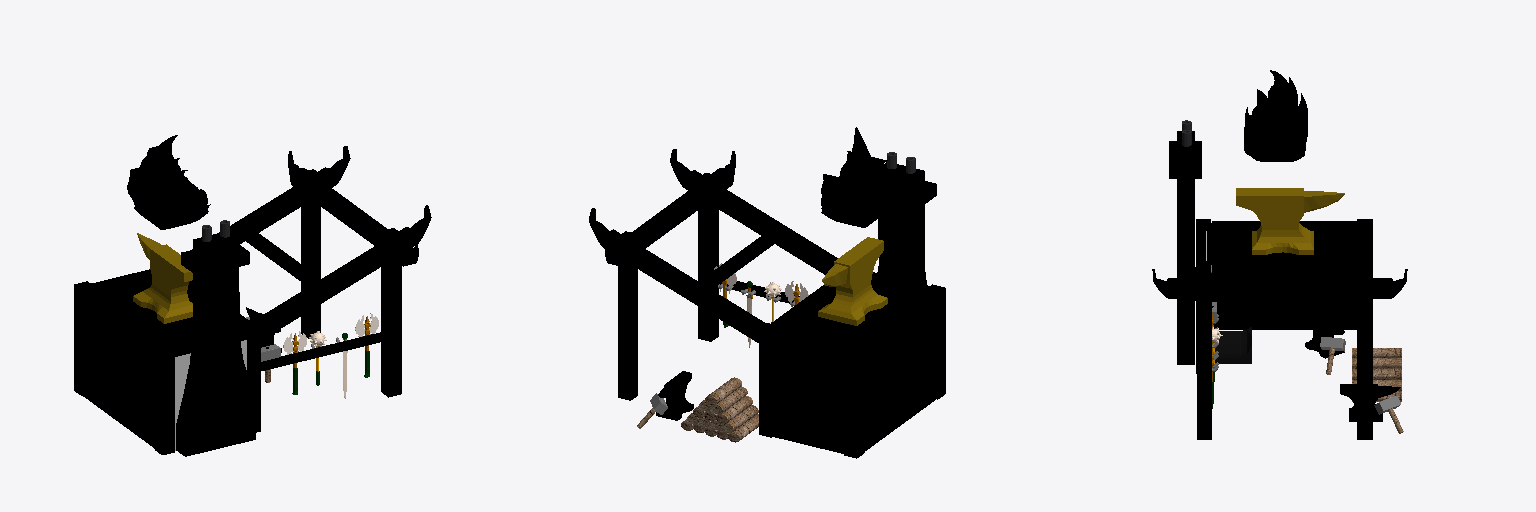
The picture shows the model from 3 angles: view 1: azimuth 30°, elevation 25°; view 2: azimuth 150°, elevation 25°; view 3: azimuth 270°, elevation 25°; orthographic projection.
Parts seen in each view (by area): view 1: DucksUPGRADE1:pCone4 DucksUPGRADE1:polySurface69, DucksUPGRADE1:pCone4 DucksUPGRADE1:polySurface65, polySurface45 FireGod:polySurface42, DucksUPGRADE1:pCone4 DucksUPGRADE1:polySurface17, DucksUPGRADE1:polySurface9, DucksUPGRADE1:pCone4 DucksUPGRADE1:polySurface15, DucksUPGRADE1:pCone4 DucksUPGRADE1:polySurface66, DucksUPGRADE1:polySurface10 DucksUPGRADE1:pCone4, DucksUPGRADE1:pCone4 DucksUPGRADE1:polySurface16, DucksUPGRADE1:pCone4 DucksUPGRADE1:polySurface14, DucksUPGRADE1:pCone4 DucksUPGRADE1:polySurface23, DucksUPGRADE1:pCone4 DucksUPGRADE1:polySurface22 (+7 smaller); view 2: DucksUPGRADE1:pCone4 DucksUPGRADE1:polySurface60, DucksUPGRADE1:pCone4 DucksUPGRADE1:polySurface65, polySurface45 FireGod:polySurface42, DucksUPGRADE1:pCone4 DucksUPGRADE1:polySurface69, DucksUPGRADE1:pCone4 DucksUPGRADE1:polySurface16, DucksUPGRADE1:pCone4 DucksUPGRADE1:polySurface66, DucksUPGRADE1:polySurface9, DucksUPGRADE1:pCone4 DucksUPGRADE1:polySurface17, DucksUPGRADE1:pCone4 DucksUPGRADE1:polySurface14, DucksUPGRADE1:pCone4 DucksUPGRADE1:polySurface13, DucksUPGRADE1:pCone4 DucksUPGRADE1:polySurface15, DucksUPGRADE1:pCone4 DucksUPGRADE1:polySurface12 (+8 smaller); view 3: DucksUPGRADE1:polySurface9, polySurface45 FireGod:polySurface42, DucksUPGRADE1:pCone4 DucksUPGRADE1:polySurface66, DucksUPGRADE1:pCone4 DucksUPGRADE1:polySurface67, DucksUPGRADE1:pCone4 DucksUPGRADE1:polySurface69, DucksUPGRADE1:pCone4 DucksUPGRADE1:polySurface14, DucksUPGRADE1:pCone4 DucksUPGRADE1:polySurface23, DucksUPGRADE1:pCone4 DucksUPGRADE1:polySurface22, DucksUPGRADE1:pCone4 DucksUPGRADE1:polySurface15, DucksUPGRADE1:pCone4 DucksUPGRADE1:polySurface19, DucksUPGRADE1:pCone4 DucksUPGRADE1:polySurface74, DucksUPGRADE1:pCone4 DucksUPGRADE1:polySurface70 (+3 smaller).
Part boxes in pixels (left/top/right/bottom): DucksUPGRADE1:pCone4 DucksUPGRADE1:polySurface69: left=176, top=230, right=255, bottom=456; DucksUPGRADE1:pCone4 DucksUPGRADE1:polySurface65: left=83, top=302, right=154, bottom=448; polySurface45 FireGod:polySurface42: left=127, top=135, right=210, bottom=229; DucksUPGRADE1:pCone4 DucksUPGRADE1:polySurface17: left=255, top=205, right=431, bottom=340; DucksUPGRADE1:polySurface9: left=133, top=233, right=192, bottom=323; DucksUPGRADE1:pCone4 DucksUPGRADE1:polySurface15: left=381, top=228, right=401, bottom=397; DucksUPGRADE1:pCone4 DucksUPGRADE1:polySurface66: left=92, top=274, right=241, bottom=343; DucksUPGRADE1:polySurface10 DucksUPGRADE1:pCone4: left=155, top=340, right=174, bottom=454; DucksUPGRADE1:pCone4 DucksUPGRADE1:polySurface16: left=192, top=146, right=350, bottom=249; DucksUPGRADE1:pCone4 DucksUPGRADE1:polySurface14: left=301, top=169, right=320, bottom=338; DucksUPGRADE1:pCone4 DucksUPGRADE1:polySurface23: left=347, top=209, right=418, bottom=266; DucksUPGRADE1:pCone4 DucksUPGRADE1:polySurface22: left=288, top=151, right=359, bottom=224; DucksUPGRADE1:pCone4 DucksUPGRADE1:polySurface60: left=773, top=336, right=843, bottom=453; DucksUPGRADE1:pCone4 DucksUPGRADE1:polySurface65: left=865, top=305, right=936, bottom=450; polySurface45 FireGod:polySurface42: left=821, top=127, right=897, bottom=227; DucksUPGRADE1:pCone4 DucksUPGRADE1:polySurface69: left=877, top=162, right=926, bottom=284; DucksUPGRADE1:pCone4 DucksUPGRADE1:polySurface16: left=589, top=208, right=764, bottom=342; DucksUPGRADE1:pCone4 DucksUPGRADE1:polySurface66: left=779, top=278, right=927, bottom=345; DucksUPGRADE1:polySurface9: left=818, top=237, right=887, bottom=325; DucksUPGRADE1:pCone4 DucksUPGRADE1:polySurface17: left=670, top=149, right=837, bottom=274; DucksUPGRADE1:pCone4 DucksUPGRADE1:polySurface14: left=618, top=231, right=637, bottom=400; DucksUPGRADE1:pCone4 DucksUPGRADE1:polySurface13: left=844, top=343, right=864, bottom=458; DucksUPGRADE1:pCone4 DucksUPGRADE1:polySurface15: left=698, top=173, right=718, bottom=341; DucksUPGRADE1:pCone4 DucksUPGRADE1:polySurface12: left=759, top=323, right=778, bottom=437; DucksUPGRADE1:polySurface9: left=1236, top=188, right=1344, bottom=254; polySurface45 FireGod:polySurface42: left=1244, top=70, right=1307, bottom=161; DucksUPGRADE1:pCone4 DucksUPGRADE1:polySurface66: left=1207, top=223, right=1359, bottom=264; DucksUPGRADE1:pCone4 DucksUPGRADE1:polySurface67: left=1212, top=299, right=1356, bottom=329; DucksUPGRADE1:pCone4 DucksUPGRADE1:polySurface69: left=1177, top=131, right=1194, bottom=364; DucksUPGRADE1:pCone4 DucksUPGRADE1:polySurface14: left=1357, top=273, right=1372, bottom=439; DucksUPGRADE1:pCone4 DucksUPGRADE1:polySurface23: left=1152, top=269, right=1279, bottom=298; DucksUPGRADE1:pCone4 DucksUPGRADE1:polySurface22: left=1280, top=269, right=1407, bottom=298; DucksUPGRADE1:pCone4 DucksUPGRADE1:polySurface15: left=1197, top=273, right=1211, bottom=439; DucksUPGRADE1:pCone4 DucksUPGRADE1:polySurface19: left=1212, top=264, right=1356, bottom=275; DucksUPGRADE1:pCone4 DucksUPGRADE1:polySurface74: left=1215, top=327, right=1251, bottom=363; DucksUPGRADE1:pCone4 DucksUPGRADE1:polySurface70: left=1169, top=141, right=1201, bottom=178.
Bounding box in the file's own units: 14.49 × 14.81 × 11.8.
Materials: 29 (2 with a texture image).